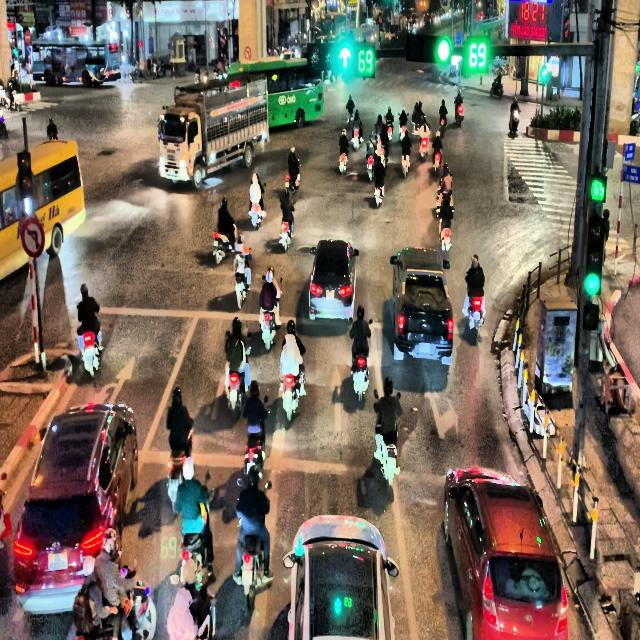lisence_plate: (47, 549, 68, 572), (417, 340, 432, 356), (324, 289, 337, 305)
